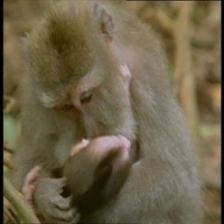monkey: (43, 46, 106, 146), (83, 128, 137, 175)
